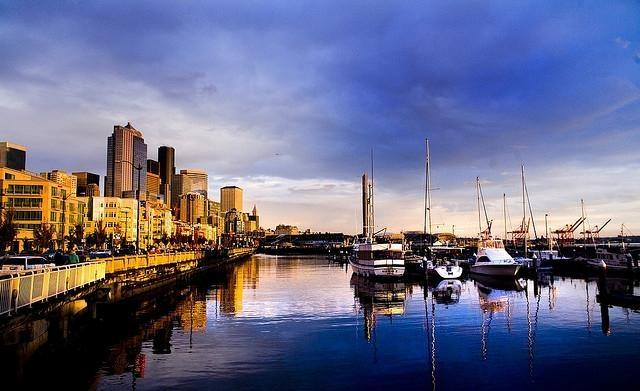car: (1, 256, 56, 270), (90, 248, 111, 256), (43, 249, 57, 258)
